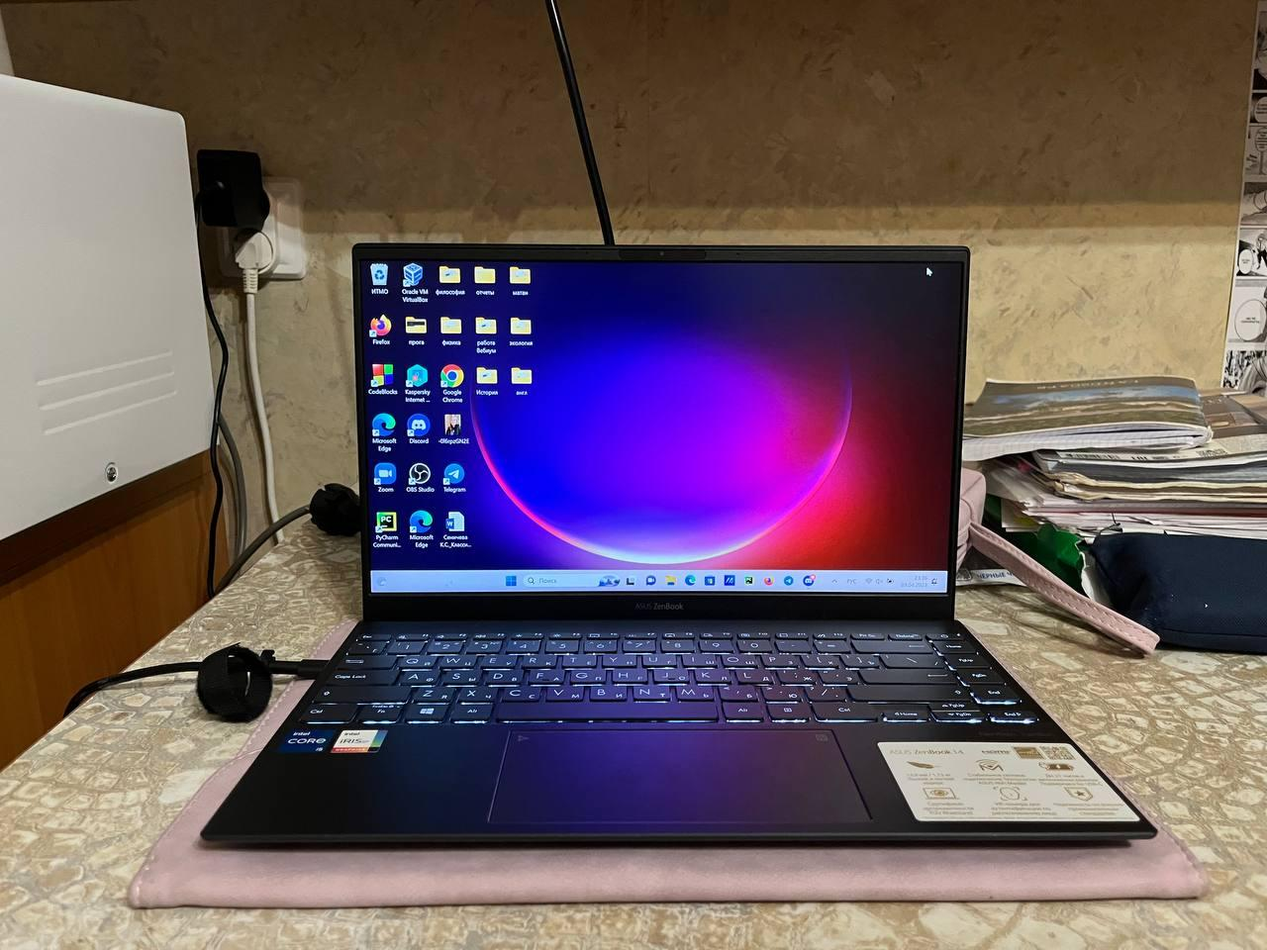monitor: (349, 241, 973, 622)
